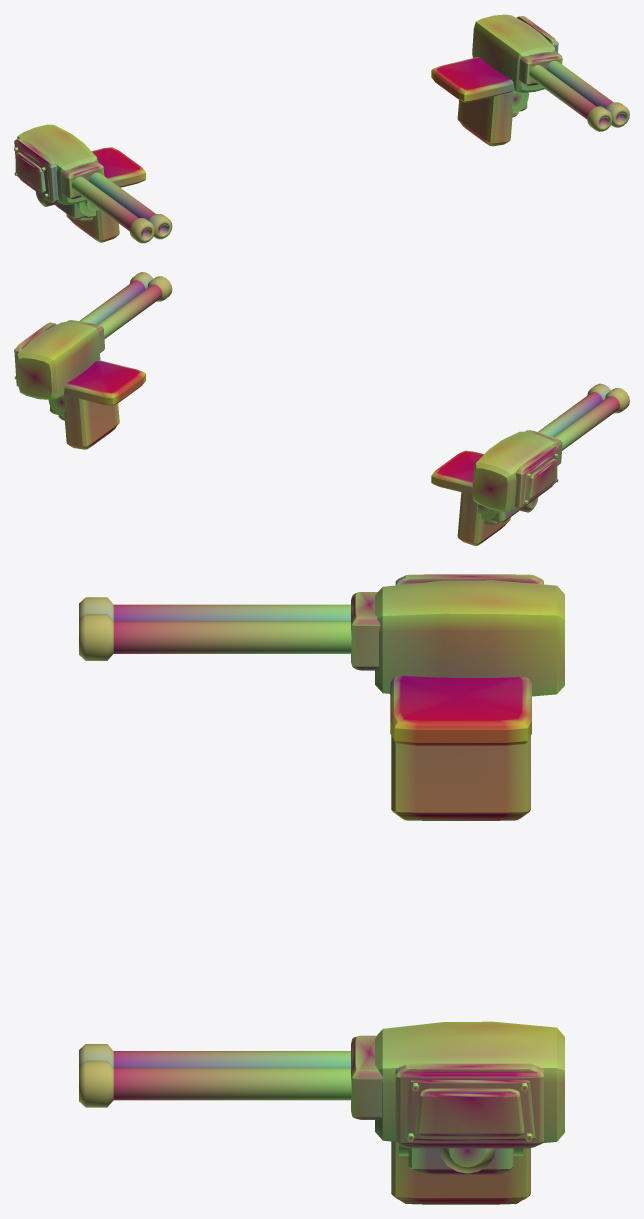
The model's file is llm_gen_shoulder_pods_045_401776.glb.
3 views of the same model, one above another, from view 1: azimuth 30°, elevation 25°; view 2: azimuth 150°, elevation 25°; view 3: azimuth 270°, elevation 25° (orthographic). The views are drawn at different scales.
Parts seen in each view (by area): view 1: adapter_shoulder_yoke_r, cannon_cradle_1_titanium_silver_r, adapter_shoulder_yoke_l, cannon_cradle_1_titanium_silver_l, beam_barrel_in_3_barrel_metal_r, beam_barrel_out_4_barrel_metal_l, cannon_side_shroud_blue_8_cobalt_anodized_l, beam_barrel_in_3_barrel_metal_l, beam_barrel_out_4_barrel_metal_r, adapter_sub_heatsink_bezel_dark_7_adapter_dark_l, adapter_sub_mantlet_dark_2_adapter_dark_l, adapter_sub_mantlet_dark_2_adapter_dark_r (+4 smaller); view 2: adapter_shoulder_yoke_r, cannon_cradle_1_titanium_silver_r, cannon_cradle_1_titanium_silver_l, adapter_shoulder_yoke_l, beam_barrel_out_4_barrel_metal_l, beam_barrel_in_3_barrel_metal_r, cannon_side_shroud_blue_8_cobalt_anodized_l, beam_barrel_in_3_barrel_metal_l, beam_barrel_out_4_barrel_metal_r, adapter_sub_heatsink_bezel_dark_7_adapter_dark_l; view 3: adapter_shoulder_yoke_l, cannon_cradle_1_titanium_silver_l, cannon_cradle_1_titanium_silver_r, beam_barrel_out_4_barrel_metal_r, beam_barrel_in_3_barrel_metal_l, cannon_side_shroud_blue_8_cobalt_anodized_r, adapter_shoulder_yoke_r, adapter_sub_heatsink_bezel_dark_7_adapter_dark_r, beam_barrel_in_3_barrel_metal_r, beam_barrel_out_4_barrel_metal_l, adapter_sub_mantlet_dark_2_adapter_dark_r, adapter_sub_mantlet_dark_2_adapter_dark_l (+4 smaller).
Boxes of the visible parts, x1=… form: adapter_shoulder_yoke_r: x1=431, y1=57, x2=529, y2=146; cannon_cradle_1_titanium_silver_r: x1=472, y1=14, x2=555, y2=92; adapter_shoulder_yoke_l: x1=55, y1=147, x2=145, y2=242; cannon_cradle_1_titanium_silver_l: x1=17, y1=124, x2=98, y2=204; beam_barrel_in_3_barrel_metal_r: x1=529, y1=65, x2=596, y2=119; beam_barrel_out_4_barrel_metal_l: x1=71, y1=176, x2=138, y2=230; cannon_side_shroud_blue_8_cobalt_anodized_l: x1=14, y1=146, x2=49, y2=197; beam_barrel_in_3_barrel_metal_l: x1=89, y1=172, x2=155, y2=220; beam_barrel_out_4_barrel_metal_r: x1=546, y1=61, x2=613, y2=108; adapter_sub_heatsink_bezel_dark_7_adapter_dark_l: x1=14, y1=138, x2=58, y2=202; adapter_sub_mantlet_dark_2_adapter_dark_l: x1=60, y1=160, x2=104, y2=199; adapter_sub_mantlet_dark_2_adapter_dark_r: x1=519, y1=50, x2=562, y2=85; adapter_shoulder_yoke_r: x1=48, y1=360, x2=145, y2=449; cannon_cradle_1_titanium_silver_r: x1=16, y1=321, x2=100, y2=399; cannon_cradle_1_titanium_silver_l: x1=472, y1=431, x2=555, y2=511; adapter_shoulder_yoke_l: x1=431, y1=450, x2=518, y2=545; beam_barrel_out_4_barrel_metal_l: x1=554, y1=396, x2=619, y2=450; beam_barrel_in_3_barrel_metal_r: x1=98, y1=284, x2=162, y2=338; cannon_side_shroud_blue_8_cobalt_anodized_l: x1=523, y1=452, x2=558, y2=504; beam_barrel_in_3_barrel_metal_l: x1=538, y1=392, x2=602, y2=436; beam_barrel_out_4_barrel_metal_r: x1=79, y1=280, x2=144, y2=324; adapter_sub_heatsink_bezel_dark_7_adapter_dark_l: x1=514, y1=444, x2=558, y2=509; adapter_shoulder_yoke_l: x1=390, y1=676, x2=531, y2=820; cannon_cradle_1_titanium_silver_l: x1=375, y1=580, x2=564, y2=696; cannon_cradle_1_titanium_silver_r: x1=375, y1=1021, x2=564, y2=1142; beam_barrel_out_4_barrel_metal_r: x1=113, y1=1067, x2=351, y2=1100; beam_barrel_in_3_barrel_metal_l: x1=113, y1=621, x2=351, y2=653; cannon_side_shroud_blue_8_cobalt_anodized_r: x1=404, y1=1080, x2=535, y2=1141; adapter_shoulder_yoke_r: x1=391, y1=1141, x2=530, y2=1204; adapter_sub_heatsink_bezel_dark_7_adapter_dark_r: x1=395, y1=1063, x2=543, y2=1148; beam_barrel_in_3_barrel_metal_r: x1=113, y1=1051, x2=350, y2=1067; beam_barrel_out_4_barrel_metal_l: x1=113, y1=604, x2=350, y2=620; adapter_sub_mantlet_dark_2_adapter_dark_r: x1=351, y1=1035, x2=382, y2=1119; adapter_sub_mantlet_dark_2_adapter_dark_l: x1=351, y1=592, x2=380, y2=670.
Bounding box in the file's own units: 110 × 19.5 × 44.5.
